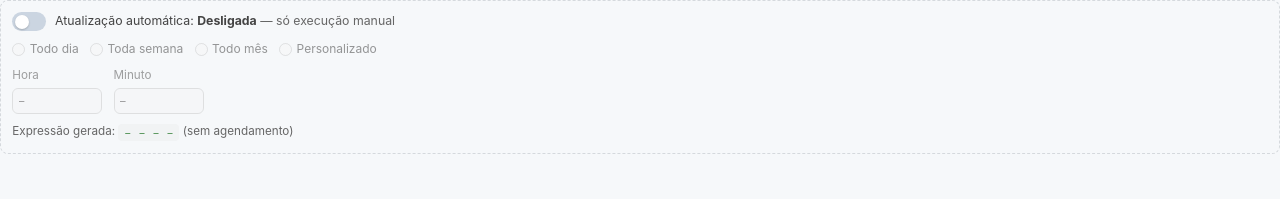
Test case: ConstrutorCron — ligar e escolher do zero › toda semana: precisa do dia escolhido, além do horário
Click the switch with class "interruptor-entrada". click: [204, 22]
box: [12,12,395,31]
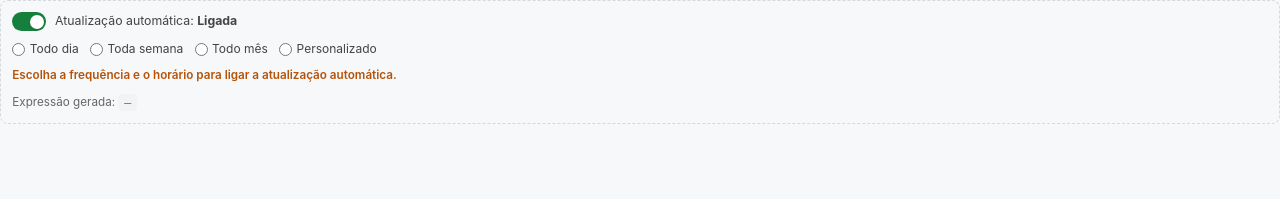
Click the radio button labelled "Toda semana". click: [96, 49]
box: [90,42,103,56]
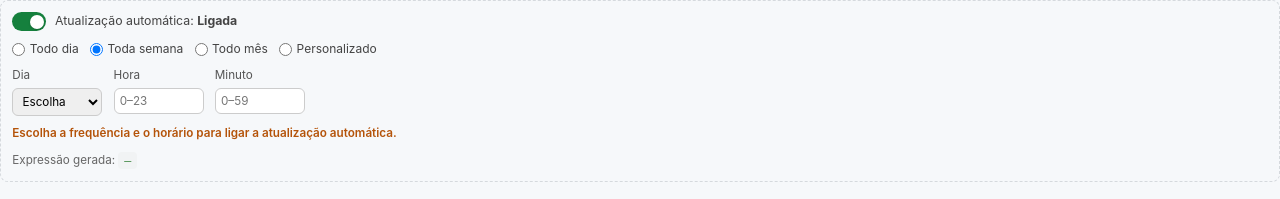
Type "8" into the number field labelled "Hora". click: [158, 101]
box: [114,88,204,114]
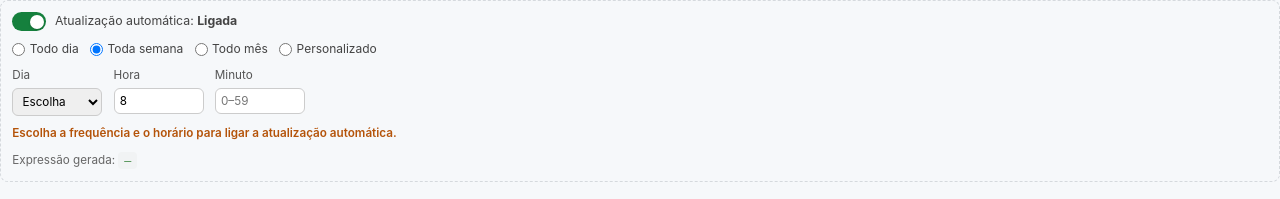
Type "30" into the number field labelled "Minuto". click: [260, 101]
box: [215,88,305,114]
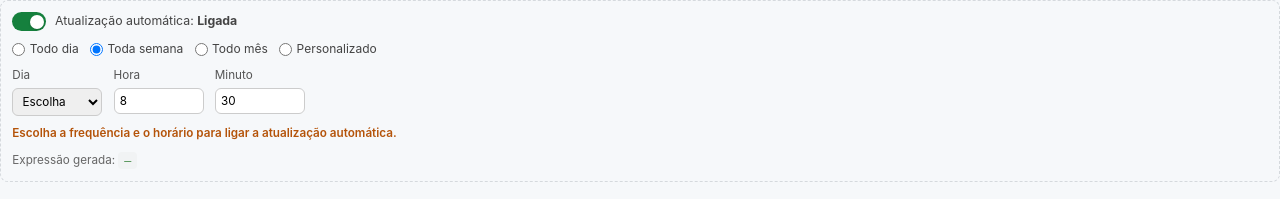
Select "Segunda" in the dropdown labelled "Dia". click: [57, 102]
box: [12,88,102,116]
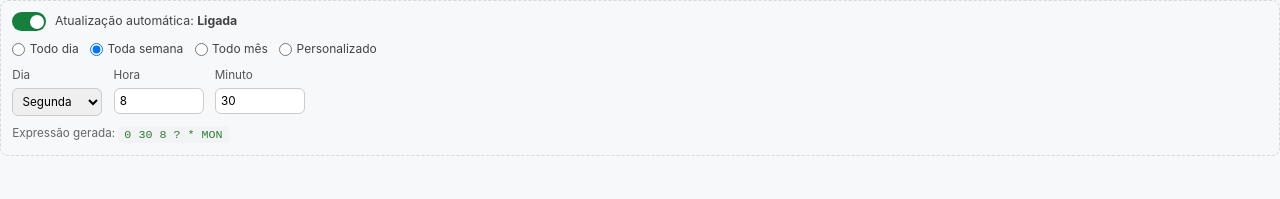
Check: the text "0 30 8 ? * MON" is shown, box [118,126,229,142]
